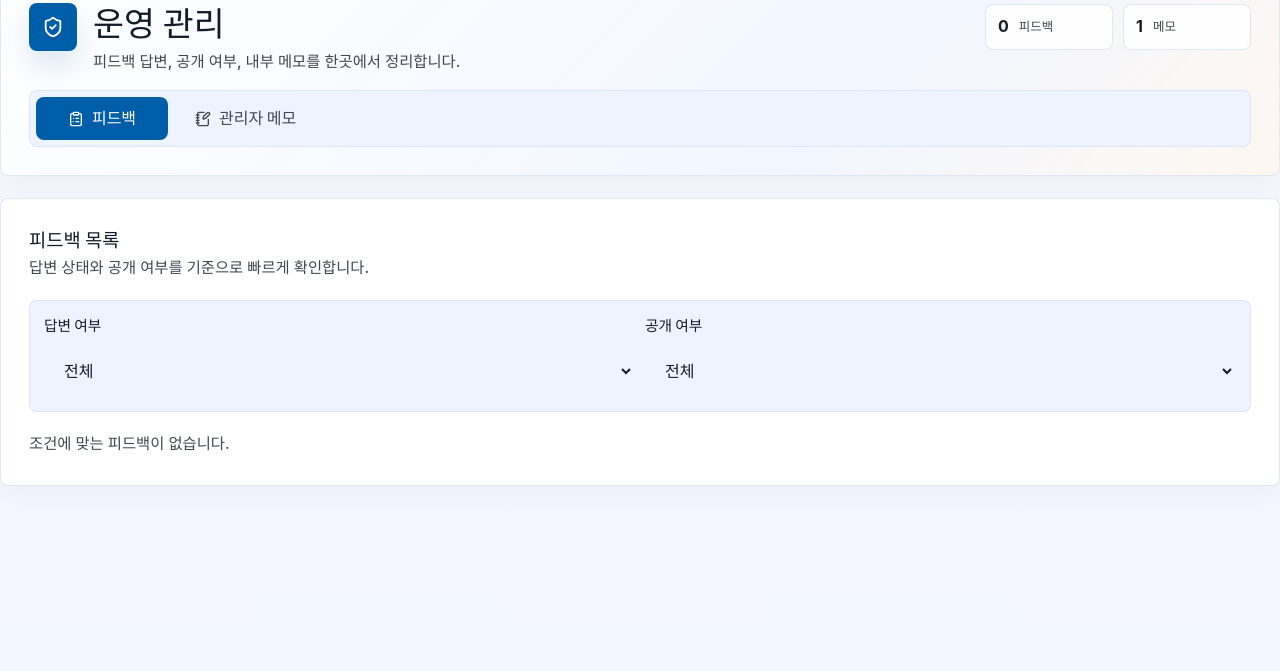
Test case: AdminPage › should_render_unanswered_memo_card_without_answer_text
The image size is (1280, 671).
Expected: the text "조건에 맞는 피드백이 없습니다." is shown, x1=29 y1=434 x2=230 y2=453
Click the button "관리자 메모" at (246, 119), box x1=178 y1=97 x2=313 y2=140
(page scrolled)
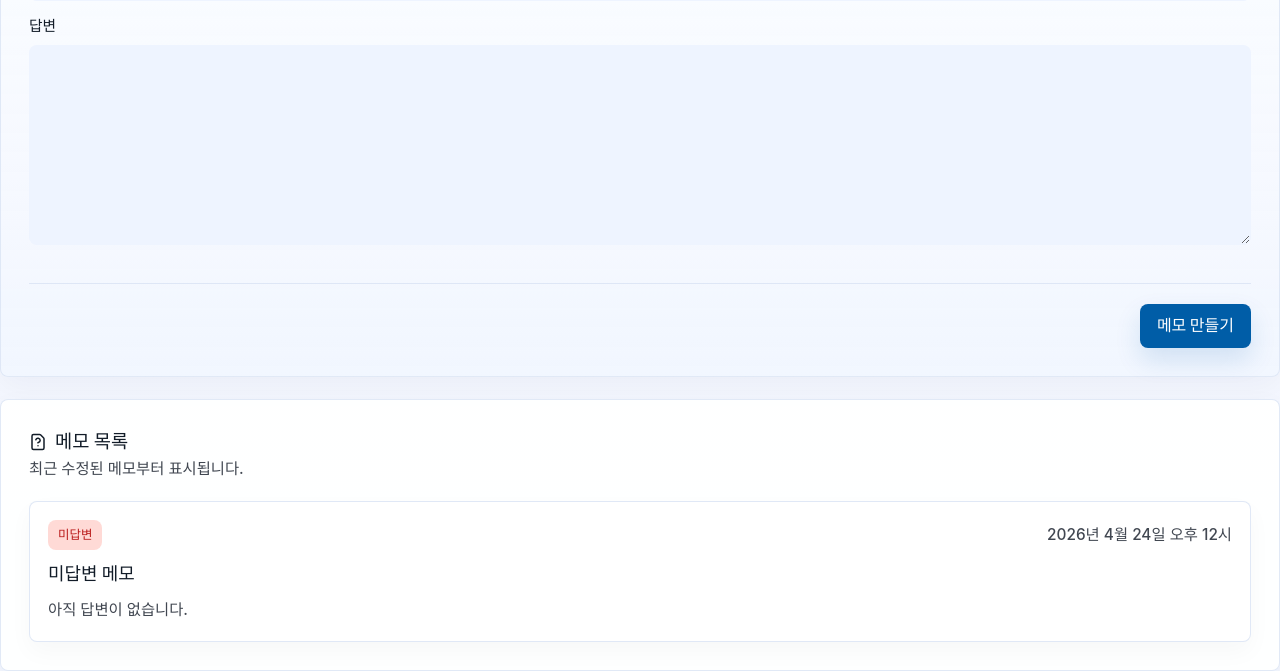
Expected: the heading "미답변 메모" is shown, x1=48 y1=563 x2=135 y2=584
Expected: the text "미답변" is shown, x1=48 y1=520 x2=102 y2=550
Expected: the text "아직 답변이 없습니다." is shown, x1=48 y1=600 x2=188 y2=620
